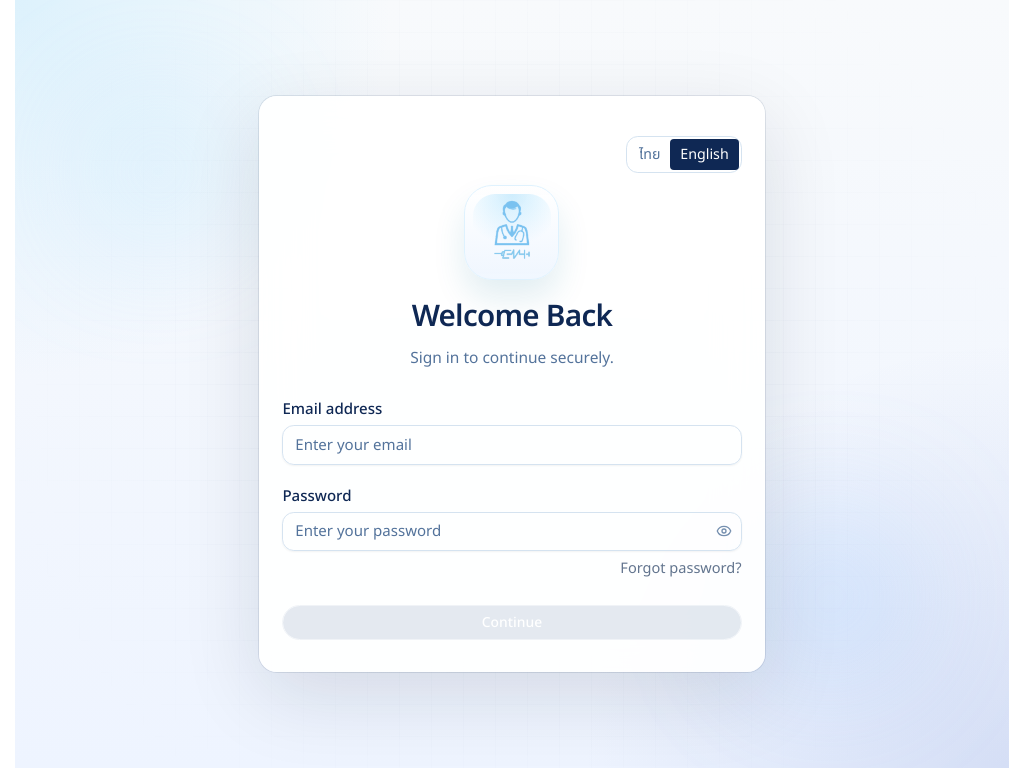
Test: LoginClientPage › shows informational guidance when an admin account is locked
The width and height of the screenshot is (1024, 768).
Type "admin@example.com" into the field labelled "Email address" at point(512, 445), box [282,425,742,465]
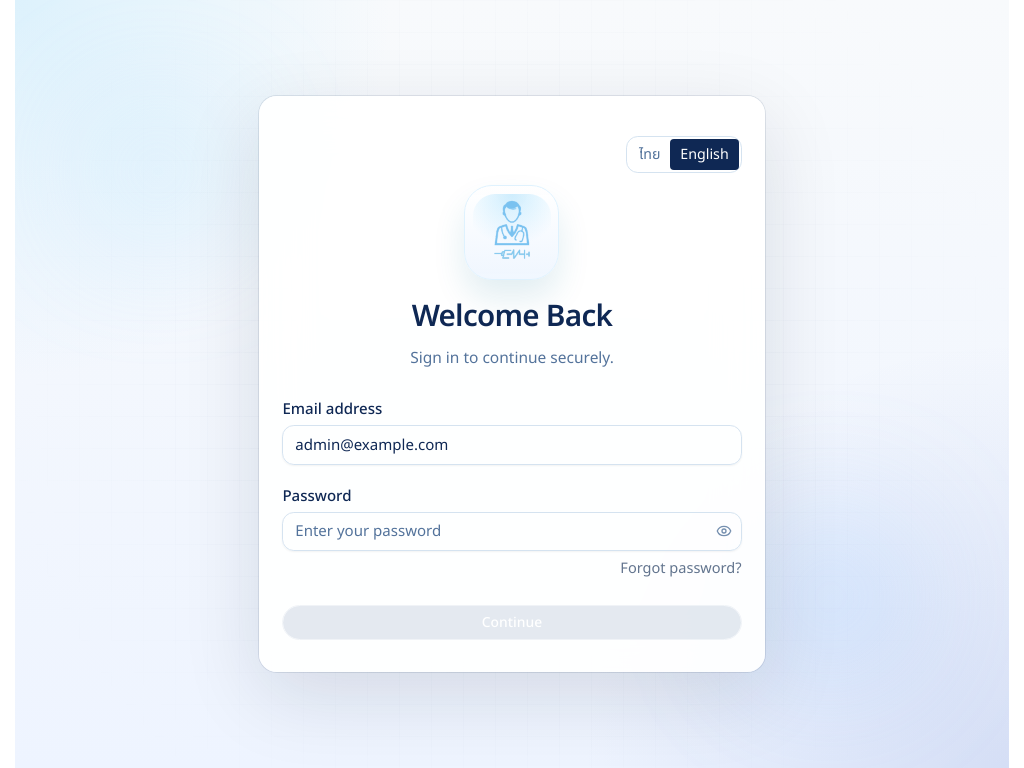
Type "Password123!" into the password field labelled "Password" at point(512, 531), box [282,512,742,551]
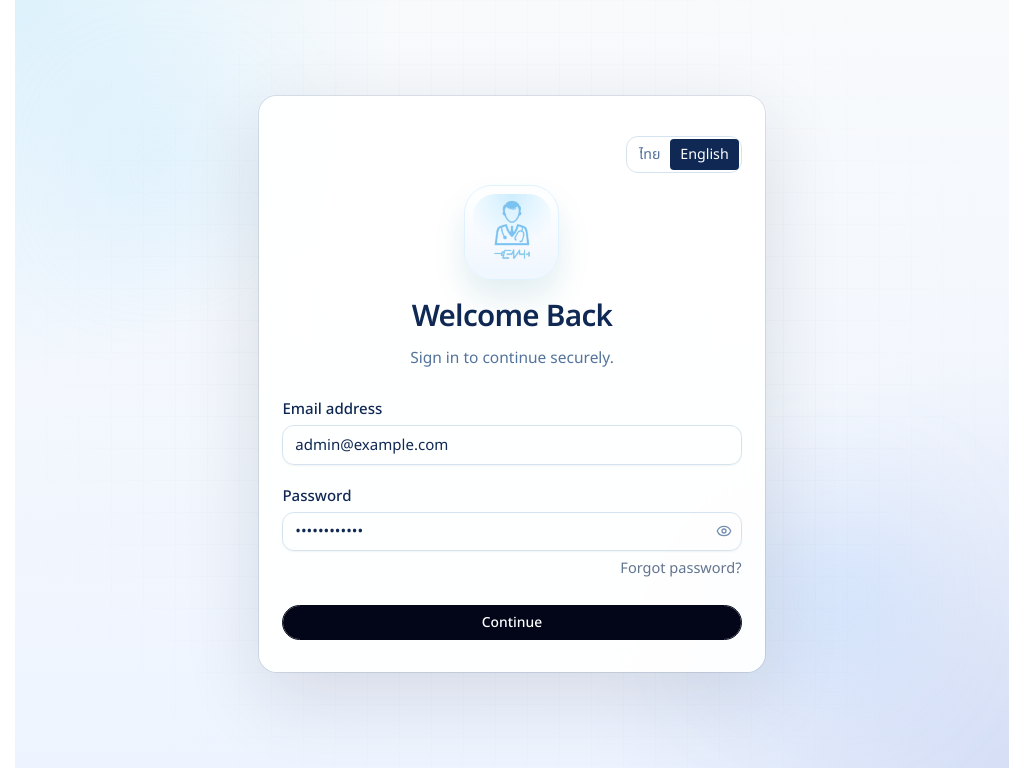
Click the button "Continue" at point(512, 622), box [282,605,742,640]
(page scrolled)
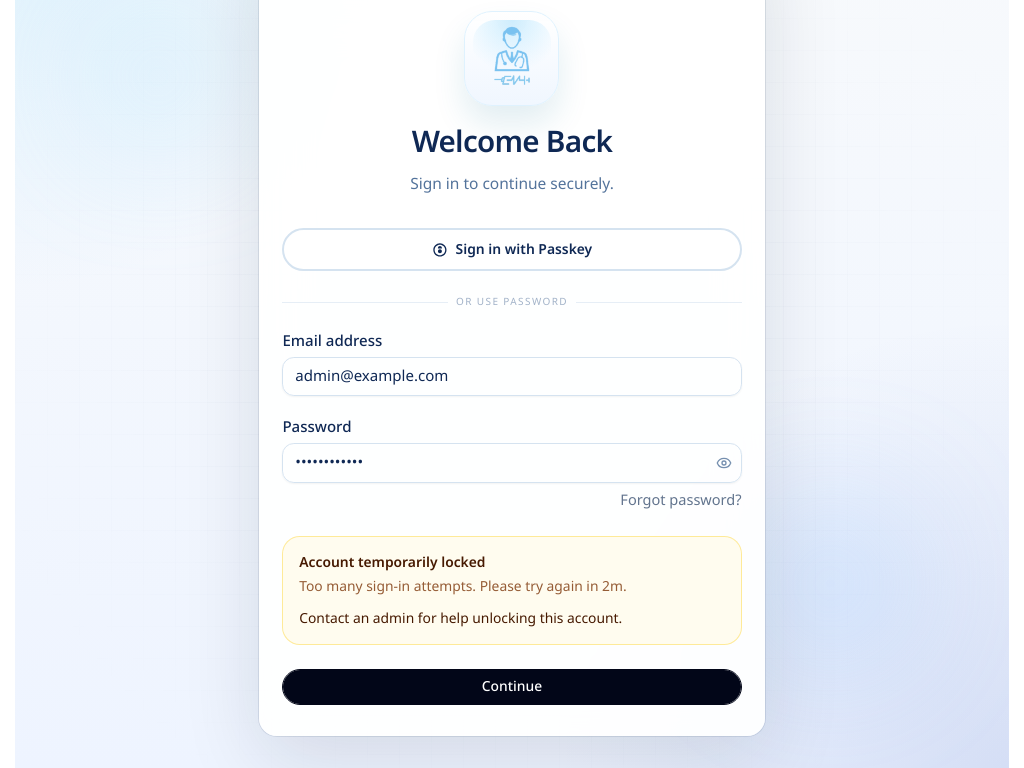
expect the button "Continue" is shown: met, box [282,669,742,704]
expect the text "Account temporarily locked" is shown: met, box [299,552,485,573]
expect the text "Contact an admin for help unlocking this account." is shown: met, box [299,608,622,628]
